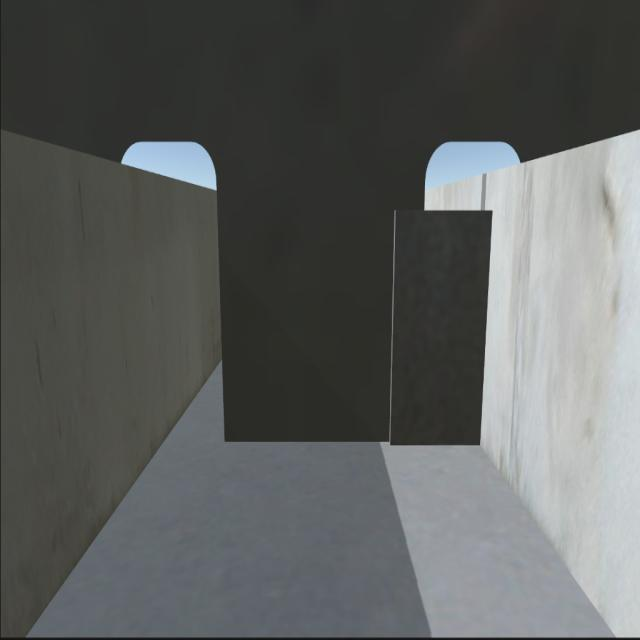fillet_yong_jeop_jang: (224, 432, 481, 453)
longi_yong_jeop_jang: (473, 211, 493, 452)
plate_CP03: (392, 209, 486, 444)
